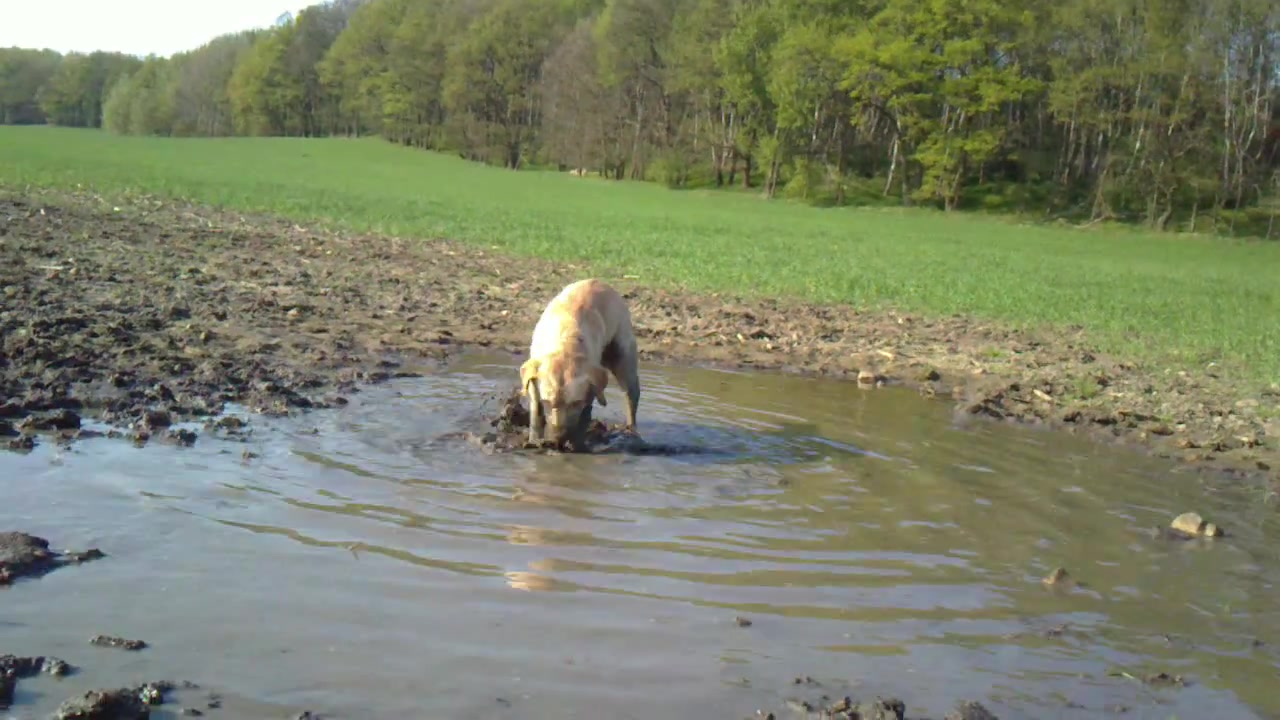dog: (515, 280, 644, 451)
